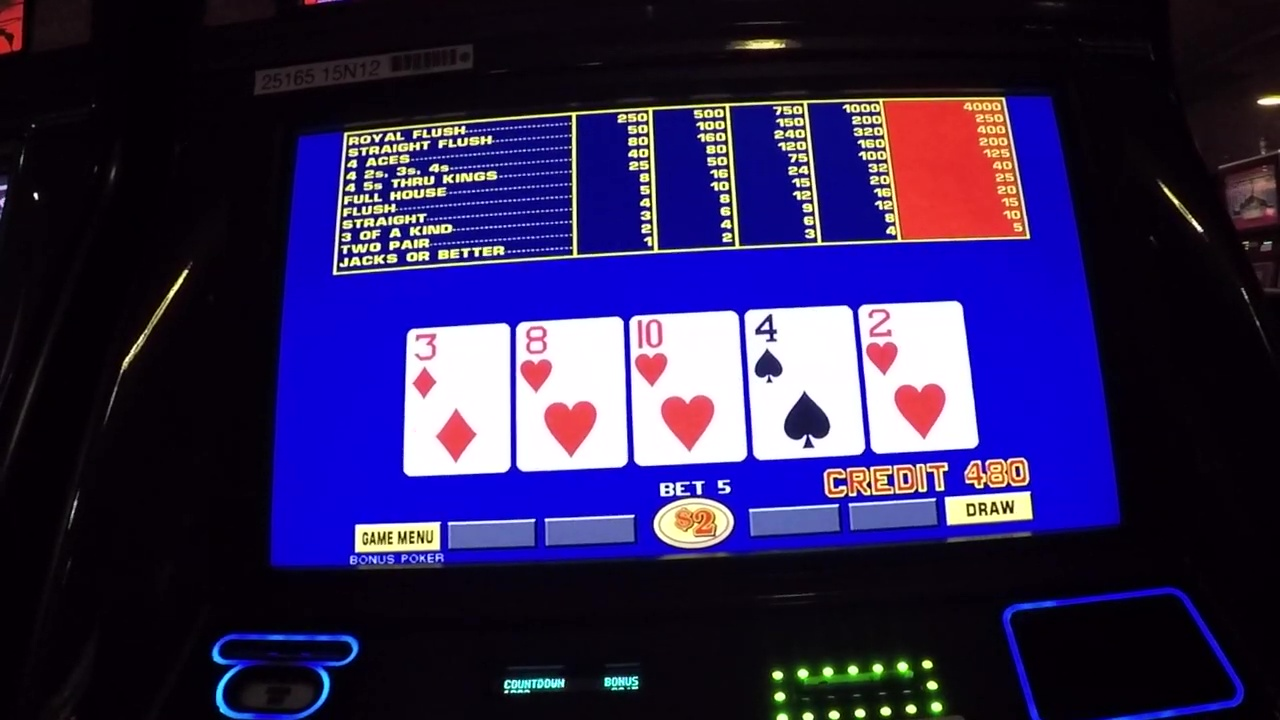D3: (411, 327, 509, 400)
H2: (868, 309, 964, 378)
H8: (518, 321, 622, 395)
HT: (631, 316, 739, 390)
S4: (750, 311, 851, 383)
